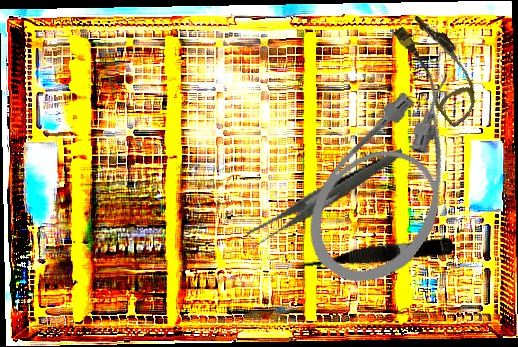Cannula: (285, 58, 507, 305), (383, 8, 495, 129)
Dressing Forceps: (235, 148, 416, 249)
Micro Scissor: (291, 233, 456, 274)
